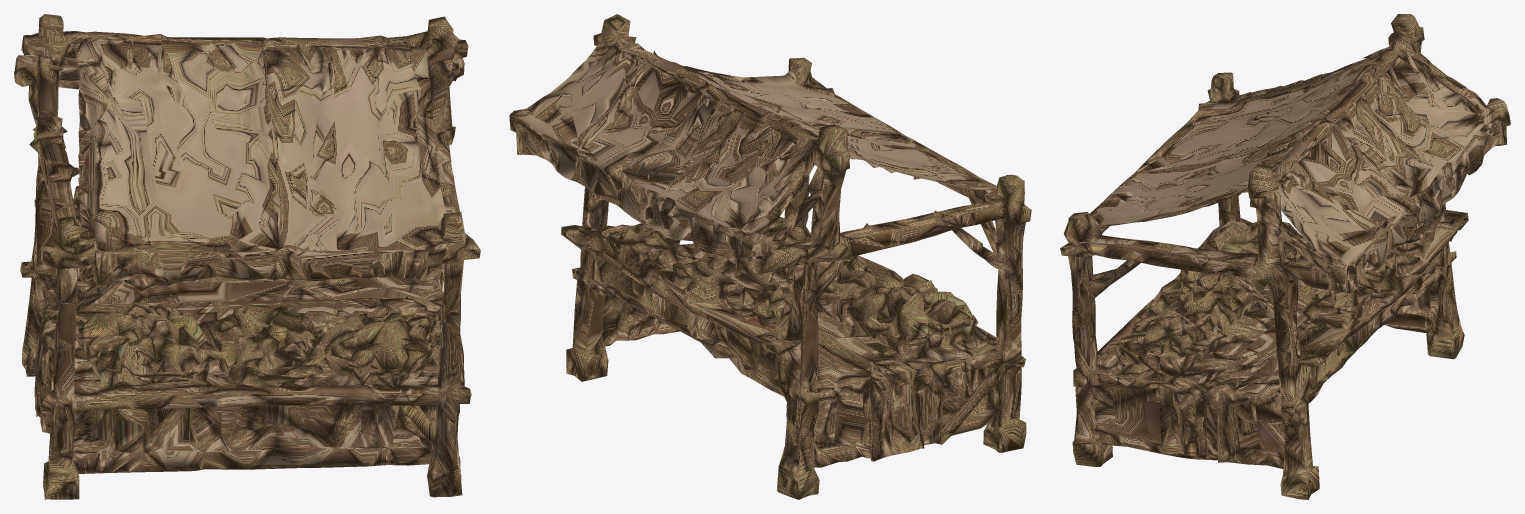
File: vegetable-market-stall-pixal3d.glb
3 views of the same model, side by side, from view 1: azimuth 30°, elevation 25°; view 2: azimuth 150°, elevation 25°; view 3: azimuth 270°, elevation 25° (orthographic). The views are drawn at different scales.
Visible parts, largest first — view 1: geometry_0; view 2: geometry_0; view 3: geometry_0.
Boxes of the visible parts, left/top/right/bottom form: geometry_0: left=14, top=14, right=480, bottom=499; geometry_0: left=509, top=14, right=1031, bottom=499; geometry_0: left=1060, top=14, right=1510, bottom=499.
Bounding box in the file's own units: 3.57 × 2.8 × 3.25.
1 material, 1 textured.
